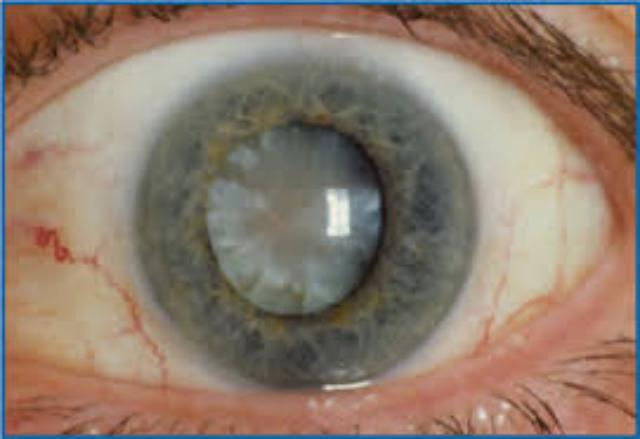eye: (128, 43, 484, 399)
